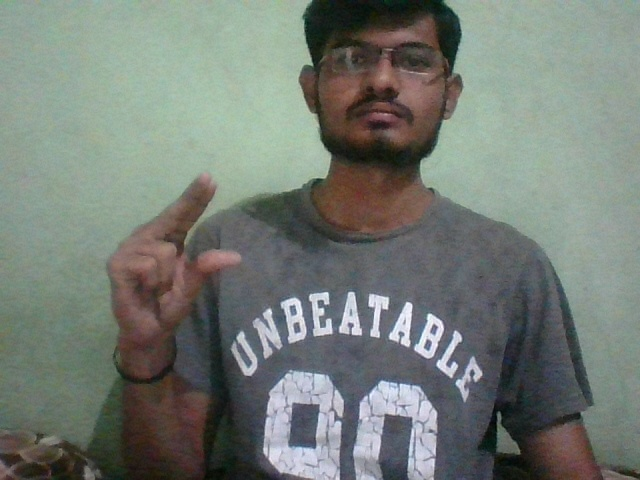no: (89, 168, 248, 351)
